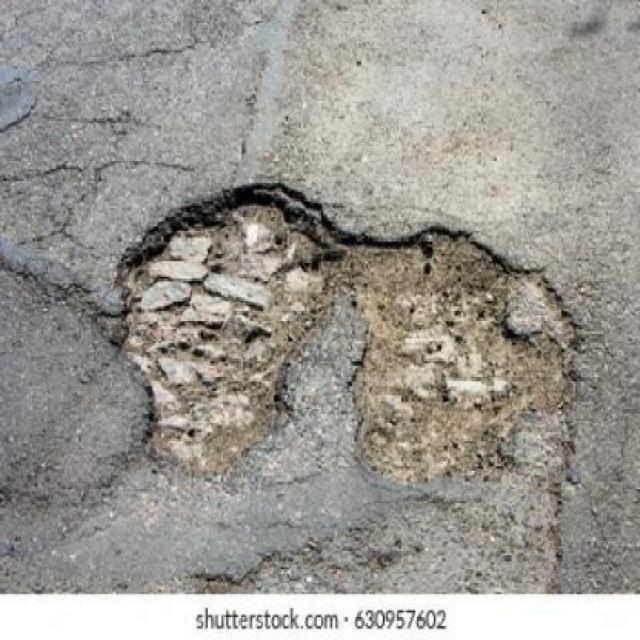Buraco: (86, 178, 594, 491)
